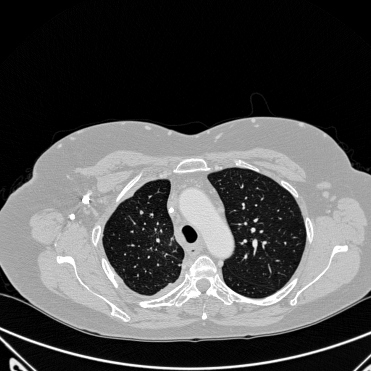nodule: (139, 210, 143, 214)
